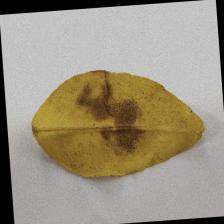black spot: (71, 86, 146, 154)
